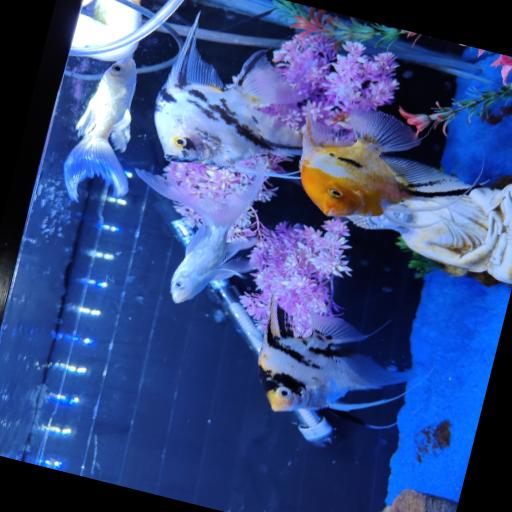Fish: (155, 13, 304, 166), (300, 107, 468, 216), (259, 299, 414, 411), (136, 169, 264, 302), (64, 58, 137, 200)
